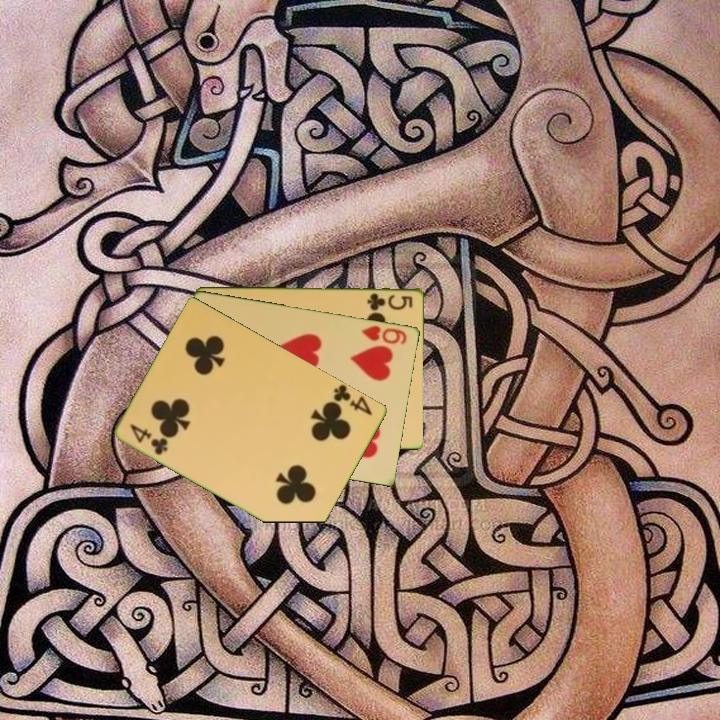4c: (127, 420, 171, 458), (330, 382, 375, 418)
5c: (364, 289, 416, 313)
6h: (358, 321, 410, 347)
